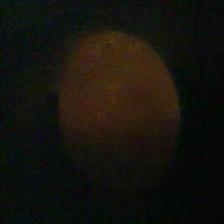fertile: (56, 28, 184, 184)
